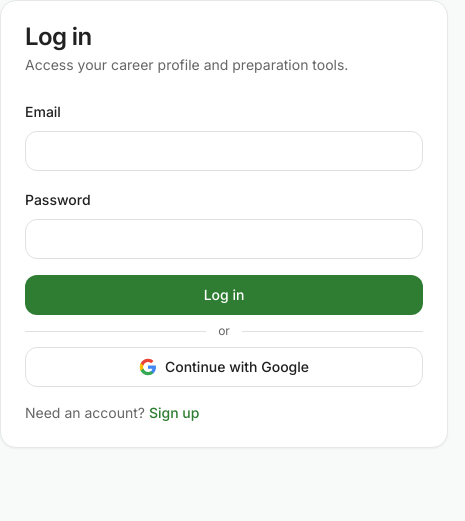
Test: LoginForm › shows validation errors for empty credentials
Click the button "Log in".
click(224, 295)  # box [25,275,423,315]
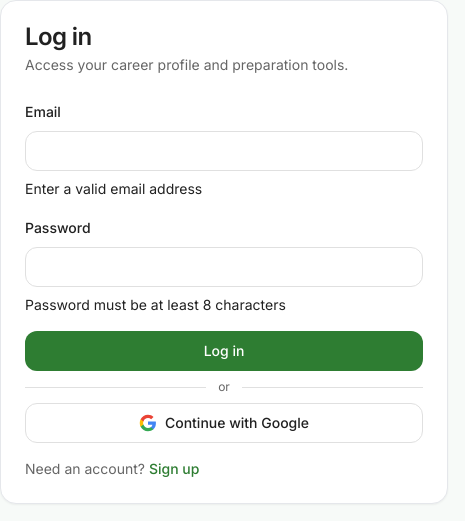
Result: the text "Enter a valid email address" is shown at [25,180,202,197]
Result: the text "Password must be at least 8 characters" is shown at [25,296,286,313]
